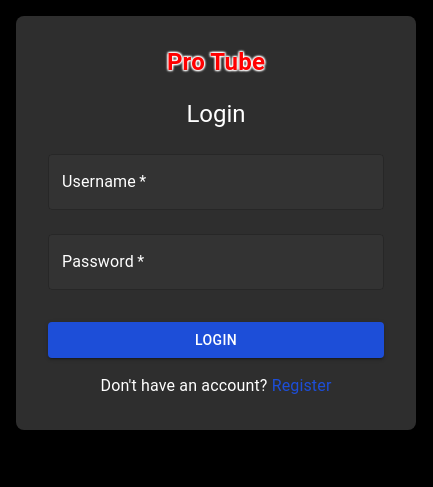
it: Login Component › should display an error message on failed login
Step 1. Type "wronguser" into the field labelled "Username *" → (216,182), box [48,154,384,210]
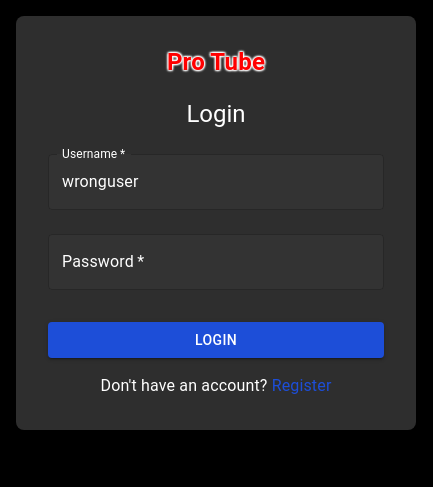
Step 2. Type "wrongpassword" into the password field labelled "Password *" → (216,262), box [48,234,384,290]
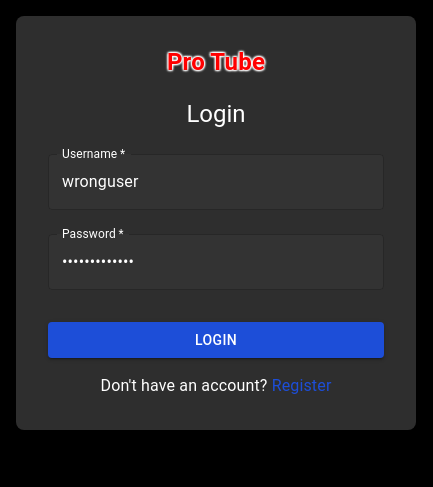
Step 3. Click the button "LOGIN" → (216,340), box [48,322,384,358]
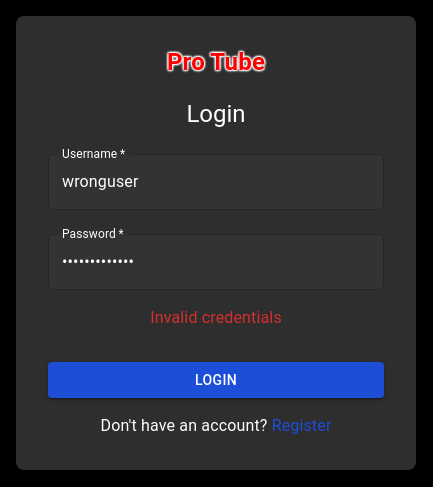
Result: the text "Invalid credentials" is shown at [150,308,282,327]
